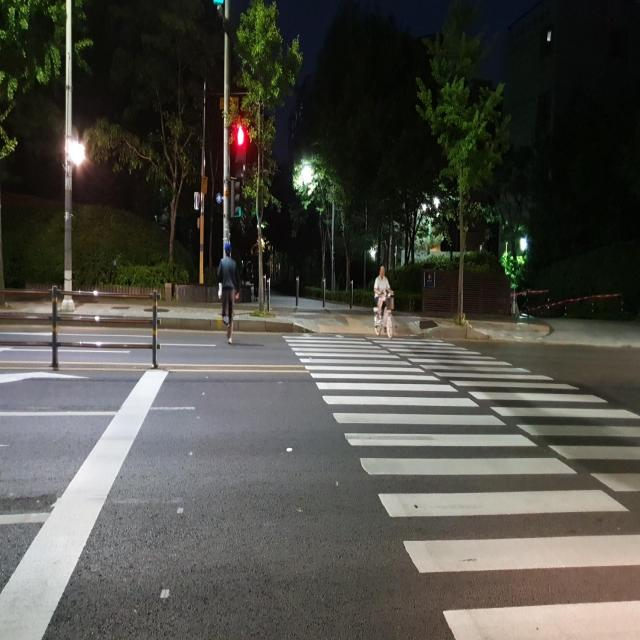빨간불: (230, 121, 247, 174)
횡단보도: (281, 332, 640, 640)
